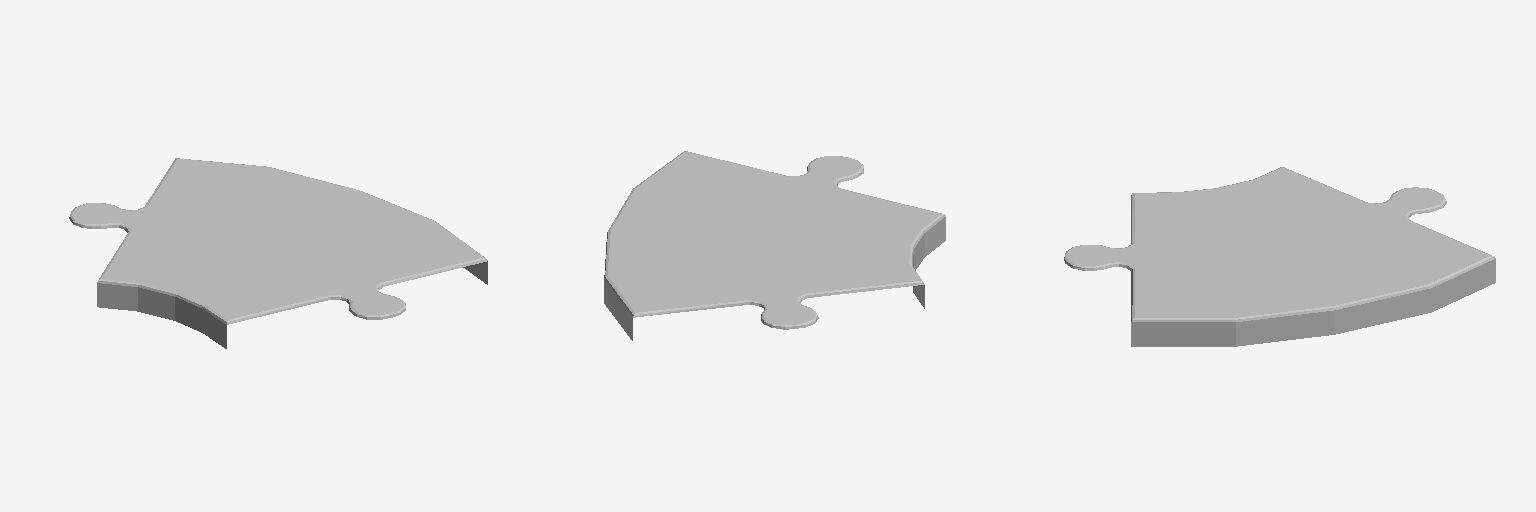
The model's file is Top Turn RTL Knobs.obj.
3 views of the same model, side by side, from view 1: azimuth 30°, elevation 25°; view 2: azimuth 150°, elevation 25°; view 3: azimuth 270°, elevation 25° (orthographic).
Visible parts, largest first — view 1: PuzzleTopTurnRTLKnobs; view 2: PuzzleTopTurnRTLKnobs; view 3: PuzzleTopTurnRTLKnobs.
Part boxes in pixels (bbox=[...]): PuzzleTopTurnRTLKnobs: bbox=[69, 158, 487, 348]; PuzzleTopTurnRTLKnobs: bbox=[604, 151, 945, 340]; PuzzleTopTurnRTLKnobs: bbox=[1064, 167, 1495, 346].
Bounding box in the file's own units: 713 × 59.05 × 845.